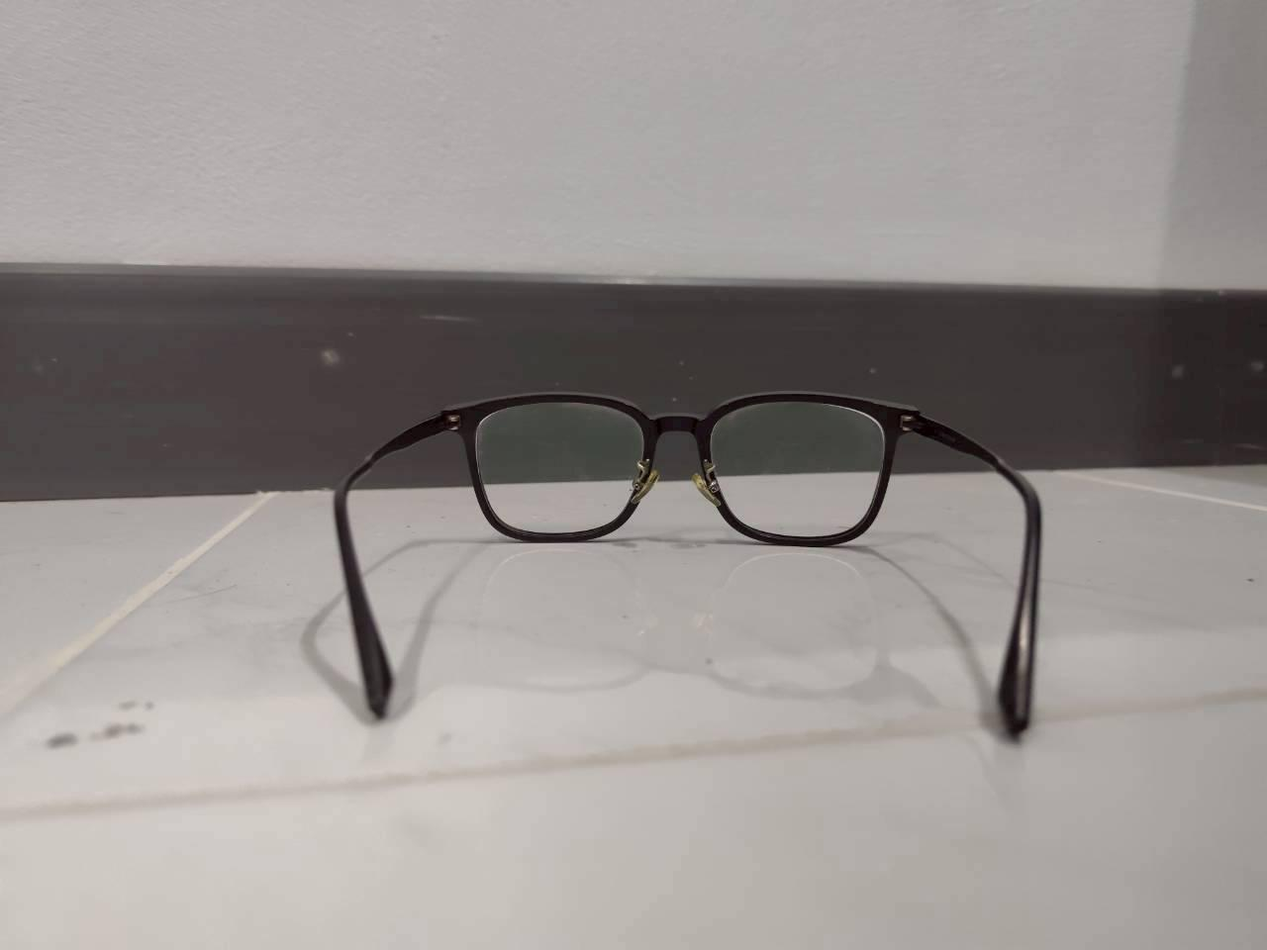glasses: (317, 382, 1078, 761)
